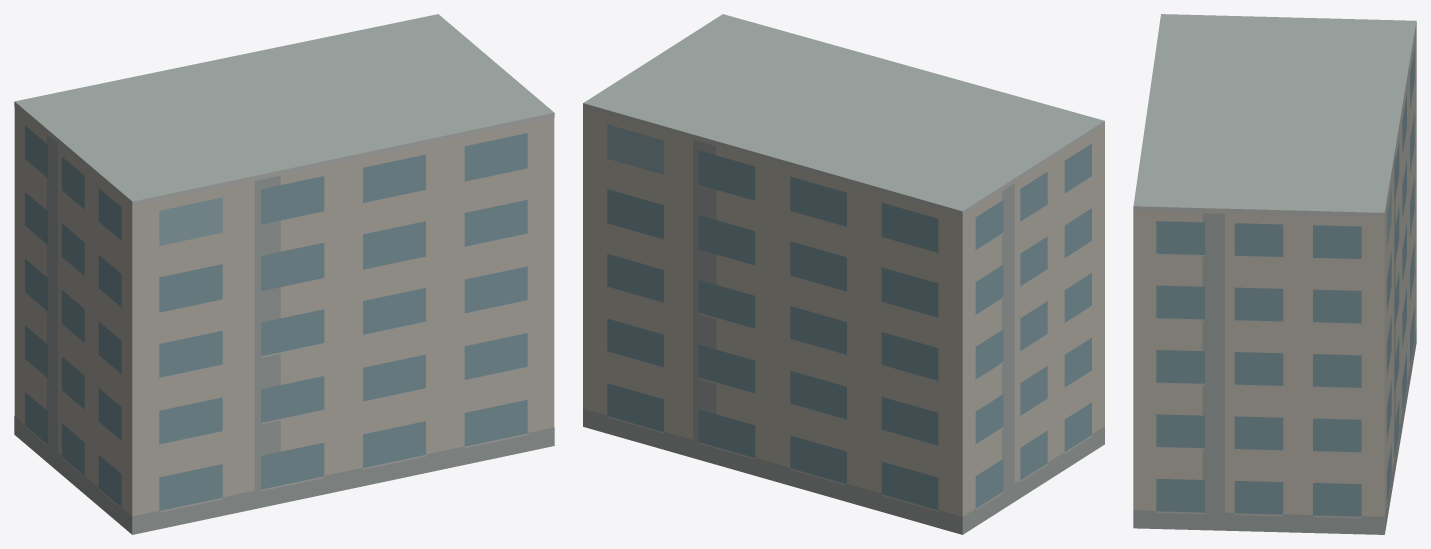
The model's file is survey-upis-32873134.glb.
3 views of the same model, side by side, from view 1: azimuth 30°, elevation 25°; view 2: azimuth 150°, elevation 25°; view 3: azimuth 270°, elevation 25° (orthographic). The views are drawn at different scales.
Visible parts, largest first — view 1: survey-upis-32873134.tmp; view 2: survey-upis-32873134.tmp; view 3: survey-upis-32873134.tmp.
Boxes of the visible parts, box(x1,y1,x2,y2) form: survey-upis-32873134.tmp: box(14, 14, 554, 534); survey-upis-32873134.tmp: box(583, 14, 1104, 534); survey-upis-32873134.tmp: box(1133, 14, 1416, 534).
Bounding box in the file's own units: 20.2 × 15.25 × 12.16.
